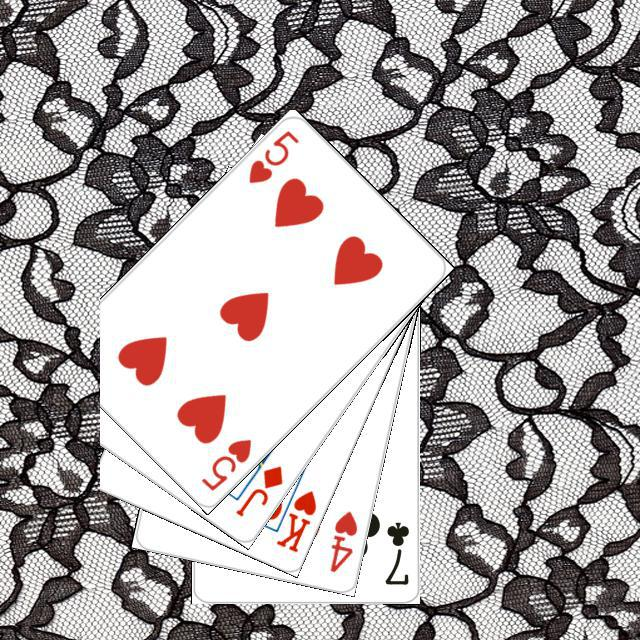4h: (325, 506, 359, 574)
5h: (243, 125, 301, 185), (196, 433, 253, 493)
7c: (379, 517, 410, 587)
Jd: (230, 460, 285, 518)
Kh: (267, 473, 319, 554)
